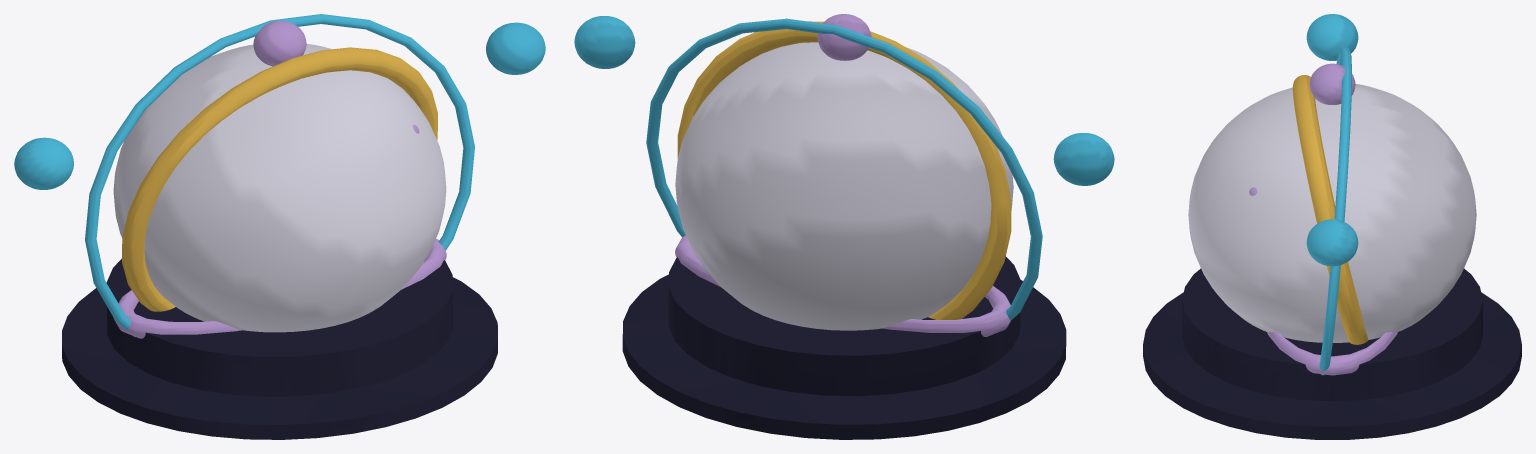
File: 0040_天文图鉴_木星.glb
The picture shows the model from 3 angles, left to right: view 1: azimuth 30°, elevation 25°; view 2: azimuth 150°, elevation 25°; view 3: azimuth 270°, elevation 25°; orthographic projection. The views are drawn at different scales.
Visible parts, largest first — view 1: card_0040; view 2: card_0040; view 3: card_0040.
Part boxes in pixels (left/top/right/bottom): card_0040: left=14, top=14, right=545, bottom=439; card_0040: left=574, top=14, right=1114, bottom=439; card_0040: left=1143, top=14, right=1521, bottom=439.
Bounding box in the file's own units: 1.63 × 1 × 1.14.
